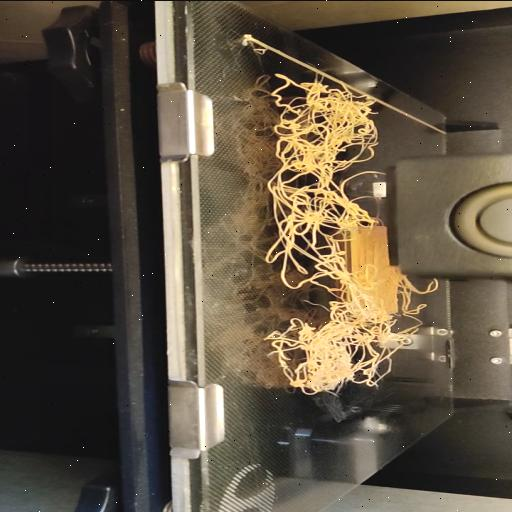spaghetti: (265, 73, 393, 396), (392, 274, 441, 350)
